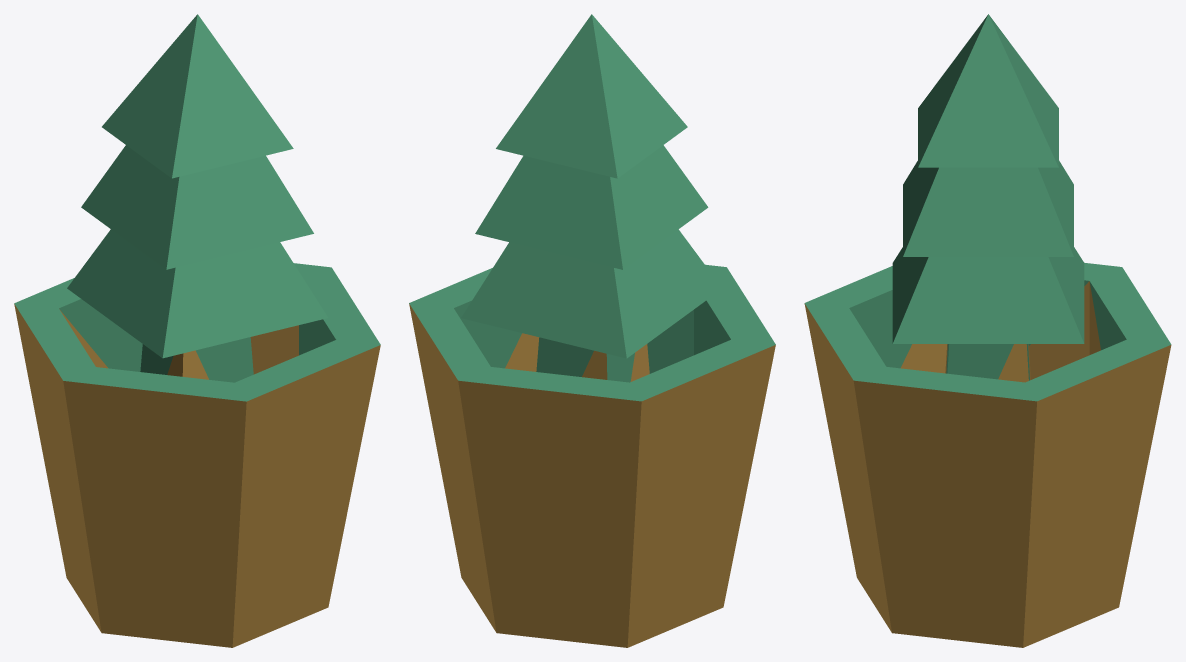
Rendered from plantSmall1.glb.
3 views of the same model, side by side, from view 1: azimuth 30°, elevation 25°; view 2: azimuth 150°, elevation 25°; view 3: azimuth 270°, elevation 25° (orthographic).
Parts seen in each view (by area): view 1: plantSmall1(Clone); view 2: plantSmall1(Clone); view 3: plantSmall1(Clone).
Boxes of the visible parts, <box> form: plantSmall1(Clone): <box>14,14,380,647</box>; plantSmall1(Clone): <box>409,14,775,647</box>; plantSmall1(Clone): <box>804,14,1171,647</box>.
Size of the model in its own units: 0.6609 by 1.15 by 0.6609.
